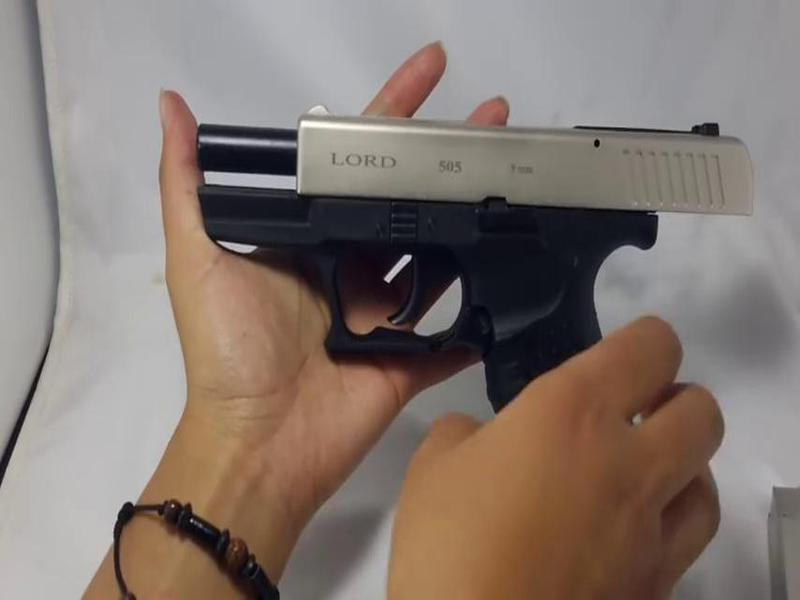Pistola: (188, 80, 749, 515)
